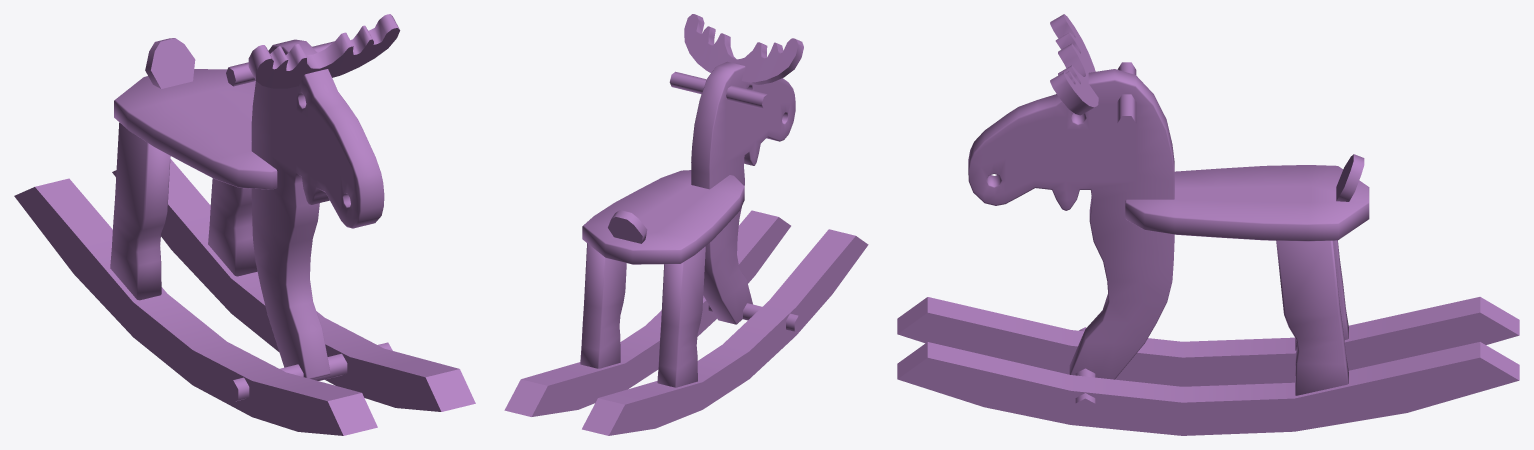
The model's file is ModelosEscenarioBalancinV1.fbx.
3 views of the same model, side by side, from view 1: azimuth 30°, elevation 25°; view 2: azimuth 150°, elevation 25°; view 3: azimuth 270°, elevation 25° (orthographic). The views are drawn at different scales.
Parts seen in each view (by area): view 1: CabezaReno, PataBalancin1, PataBalancin002, Asiento, Pata1, Cuernos, Pata002, Cola, Cylinder001, Manillar; view 2: PataBalancin1, CabezaReno, Asiento, PataBalancin002, Pata1, Pata002, Cuernos, Manillar, Cola, Cylinder001; view 3: CabezaReno, PataBalancin002, PataBalancin1, Asiento, Pata002, Cuernos, Cola, Manillar, Pata1, Cylinder001.
Part boxes in pixels (left/top/right/bottom): CabezaReno: left=251, top=39, right=384, bottom=378; PataBalancin1: left=14, top=178, right=377, bottom=435; PataBalancin002: left=112, top=158, right=475, bottom=411; Asiento: left=114, top=69, right=277, bottom=189; Pata1: left=110, top=122, right=170, bottom=300; Cuernos: left=248, top=14, right=400, bottom=88; Pata002: left=208, top=178, right=257, bottom=276; Cola: left=145, top=38, right=195, bottom=88; Cylinder001: left=228, top=342, right=392, bottom=401; Manillar: left=226, top=41, right=334, bottom=86; PataBalancin1: left=582, top=229, right=868, bottom=435; CabezaReno: left=691, top=61, right=795, bottom=324; Asiento: left=582, top=170, right=744, bottom=264; PataBalancin002: left=504, top=210, right=790, bottom=416; Pata1: left=657, top=246, right=705, bottom=387; Pata002: left=580, top=243, right=626, bottom=368; Cuernos: left=684, top=14, right=803, bottom=84; Manillar: left=669, top=71, right=769, bottom=109; Cola: left=608, top=210, right=647, bottom=243; Cylinder001: left=708, top=303, right=802, bottom=332; CabezaReno: left=968, top=69, right=1174, bottom=379; PataBalancin002: left=897, top=342, right=1519, bottom=435; PataBalancin1: left=897, top=297, right=1519, bottom=386; Asiento: left=1125, top=165, right=1369, bottom=241; Pata002: left=1276, top=240, right=1348, bottom=395; Cuernos: left=1050, top=14, right=1098, bottom=115; Cola: left=1336, top=154, right=1364, bottom=201; Manillar: left=1117, top=62, right=1136, bottom=130; Pata1: left=1295, top=240, right=1348, bottom=350; Cylinder001: left=1075, top=327, right=1095, bottom=418.
Bounding box in the file's own units: 2.82 × 6.69 × 10.39.
